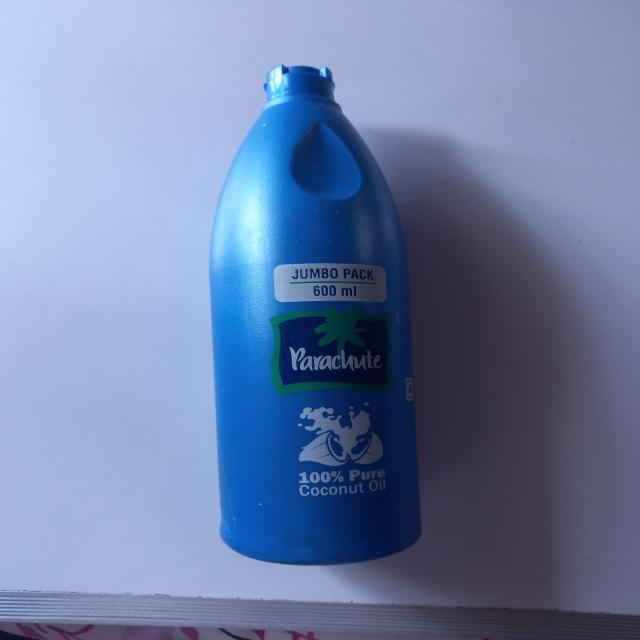parachute_oil: (212, 63, 442, 569)
